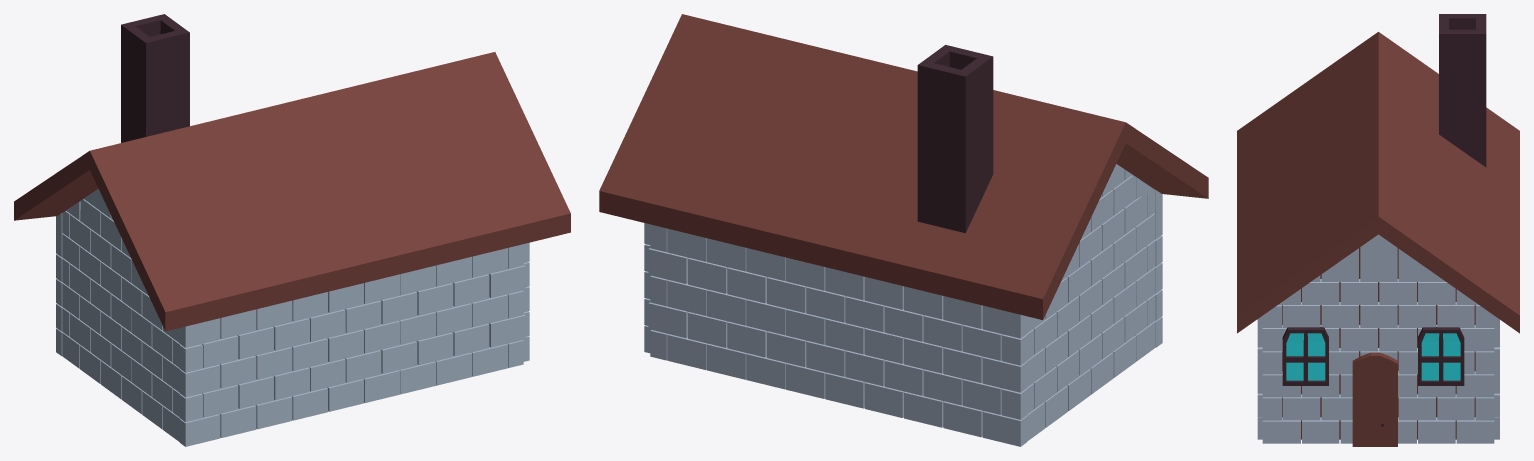
File: dwelling_build_lv3.fbx
3 renders of one model, left to right at view 1: azimuth 30°, elevation 25°; view 2: azimuth 150°, elevation 25°; view 3: azimuth 270°, elevation 25°, orthographic. The views are drawn at different scales.
Visible parts, largest first — view 1: Cube, Cube.141, Cube.002; view 2: Cube, Cube.141, Cube.002; view 3: Cube, Cube.141, Cube.002, Cube.026, Cube.016, Cube.001.
Part boxes in pixels (x1,y1,x2,y2): Cube: (14,52,570,331); Cube.141: (56,188,529,446); Cube.002: (121,14,189,142); Cube: (599,14,1208,319); Cube.141: (644,164,1162,446); Cube.002: (917,45,993,233); Cube: (1237,32,1519,439); Cube.141: (1257,234,1499,443); Cube.002: (1439,14,1486,167); Cube.026: (1352,352,1397,446); Cube.016: (1282,326,1328,385); Cube.001: (1418,326,1464,385).
Size of the model in its own units: 8.58 by 6.45 by 5.55.
